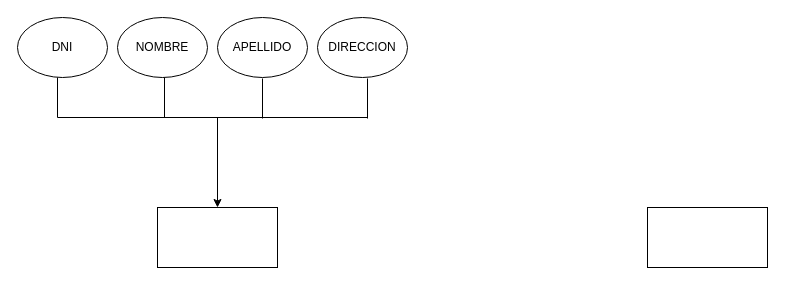
Image size: 785x285. Some labels were removed from this diagram. Here are the shapes that lost their labels. From the top down, the box of each, then its label:
(156, 206, 278, 268): Cliente
(646, 206, 768, 268): Producto
